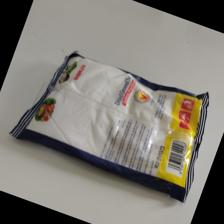Salt: (6, 50, 212, 202)
